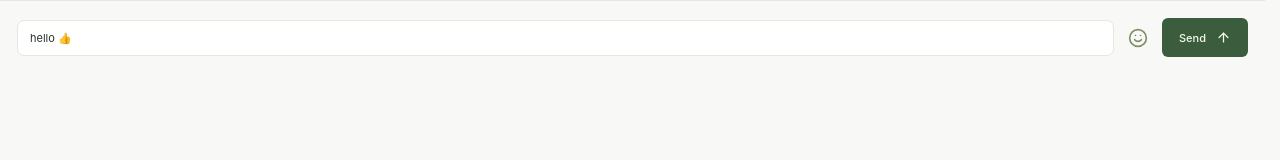
Test case: inserts Unicode at the caret without sending or altering surrounding text
Earlier steps of the test are not shown.
Expected: the field named "message" holds "hello 👍", top-left (17, 20), bottom-right (1114, 56)
Click the button "Send" at (1205,38), box top-left (1162, 18), bottom-right (1248, 57)
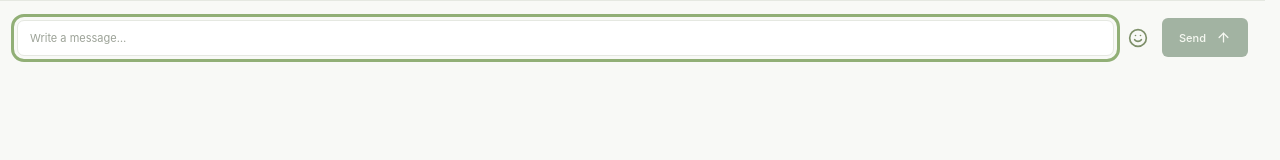
Expected: the field labelled "message" is empty, top-left (17, 20), bottom-right (1114, 56)
